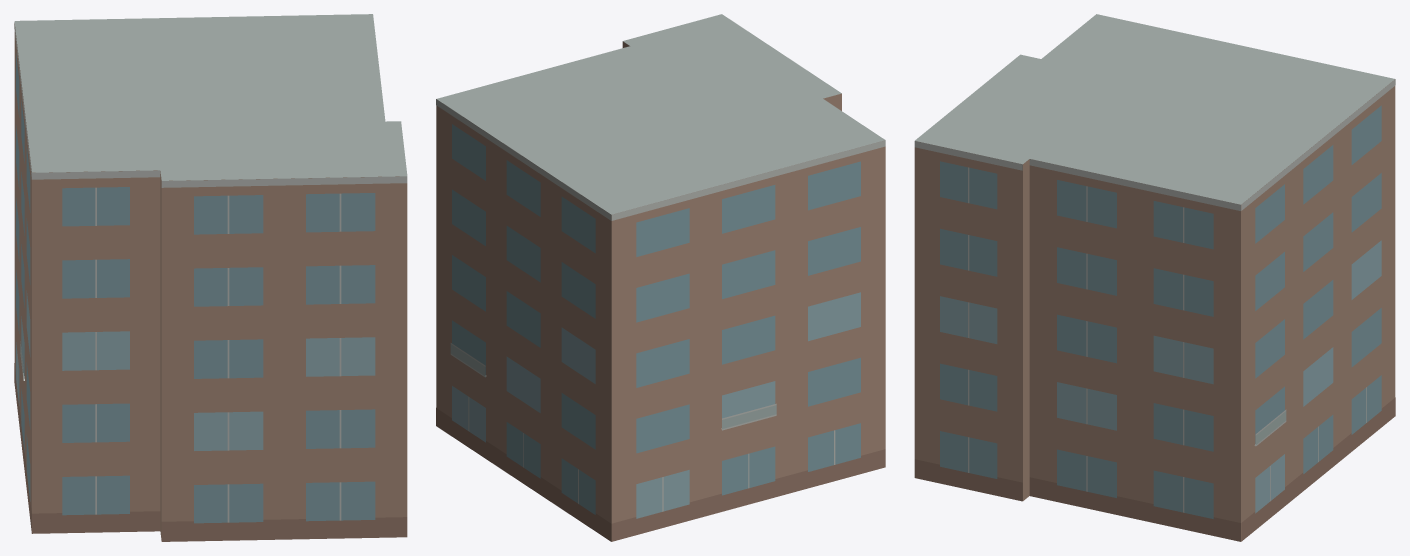
File: survey-upis-32774775.glb
The picture shows the model from 3 angles, left to right: view 1: azimuth 30°, elevation 25°; view 2: azimuth 150°, elevation 25°; view 3: azimuth 270°, elevation 25°; orthographic projection. The views are drawn at different scales.
Parts seen in each view (by area): view 1: survey-upis-32774775.tmp; view 2: survey-upis-32774775.tmp; view 3: survey-upis-32774775.tmp.
Boxes of the visible parts, box(x1,y1,x2,y2) form: survey-upis-32774775.tmp: box(14, 14, 407, 541); survey-upis-32774775.tmp: box(436, 14, 885, 541); survey-upis-32774775.tmp: box(914, 14, 1395, 541).
Bounding box in the file's own units: 15.42 × 12.7 × 16.43.
